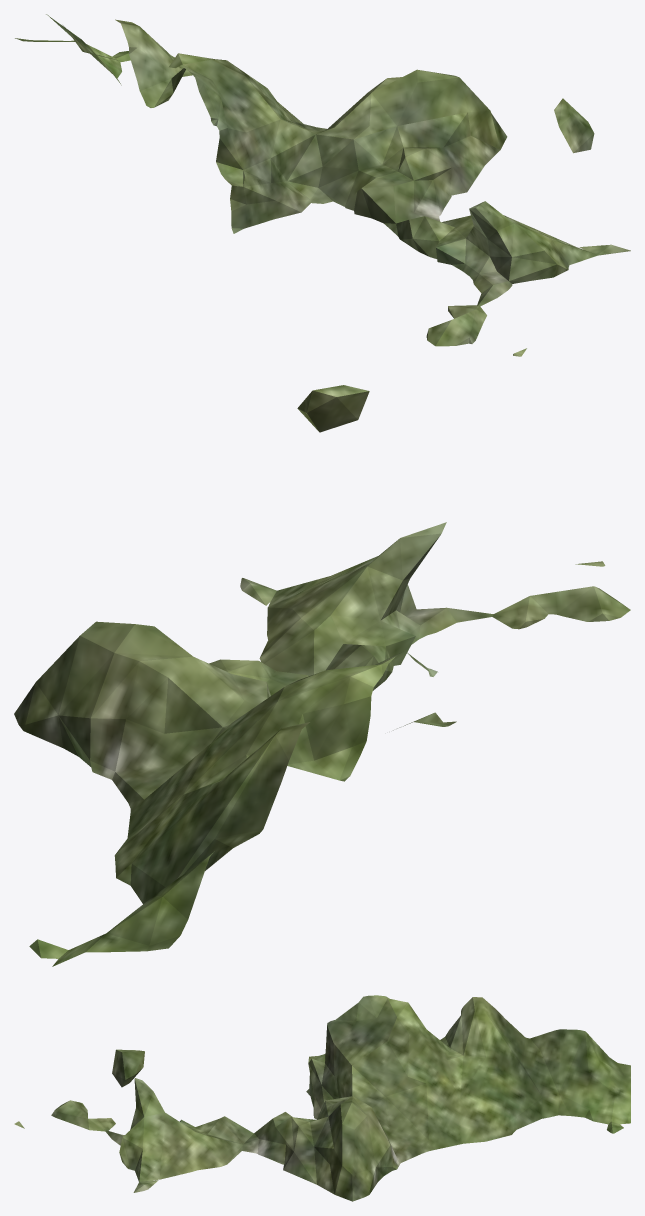
3 renders of one model, top to bottom at view 1: azimuth 30°, elevation 25°; view 2: azimuth 150°, elevation 25°; view 3: azimuth 270°, elevation 25°, orthographic. The views are drawn at different scales.
Bounding box in the file's own units: 2.14 × 1.08 × 5.06.
1 material, 1 textured.
